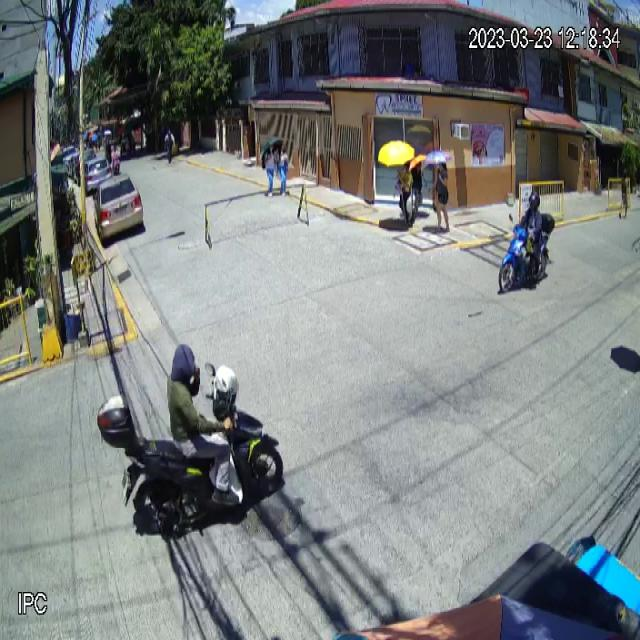Car: (92, 171, 144, 242)
Motorcycle: (97, 362, 284, 532), (498, 214, 555, 294)
